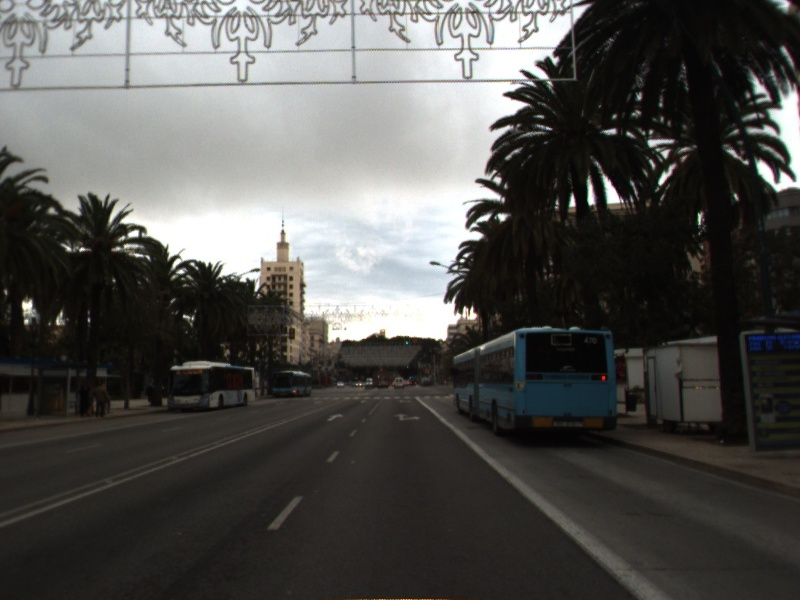STRAIGHT: (325, 411, 347, 424)
STRAIGHT_RIGHT: (392, 410, 423, 424)
